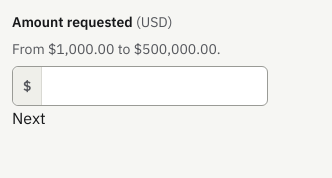
NumberInput › names the limit when a value is out of range, and clears once fixed
In the field labelled "Amount requested (USD)": point(155, 86) [42,67,267,105], type "750000"
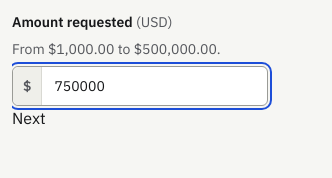
Press Tab
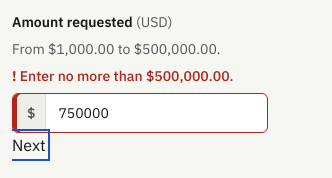
Check: the field labelled "Amount requested (USD)" is marked as invalid
Replace the text in the field labelled "Amount requested (USD)" with "5000": point(157, 113) [46,94,267,132]
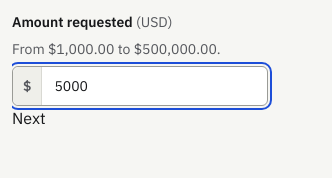
Check: the field labelled "Amount requested (USD)" does not have attribute aria-invalid, box [42,67,267,105]
